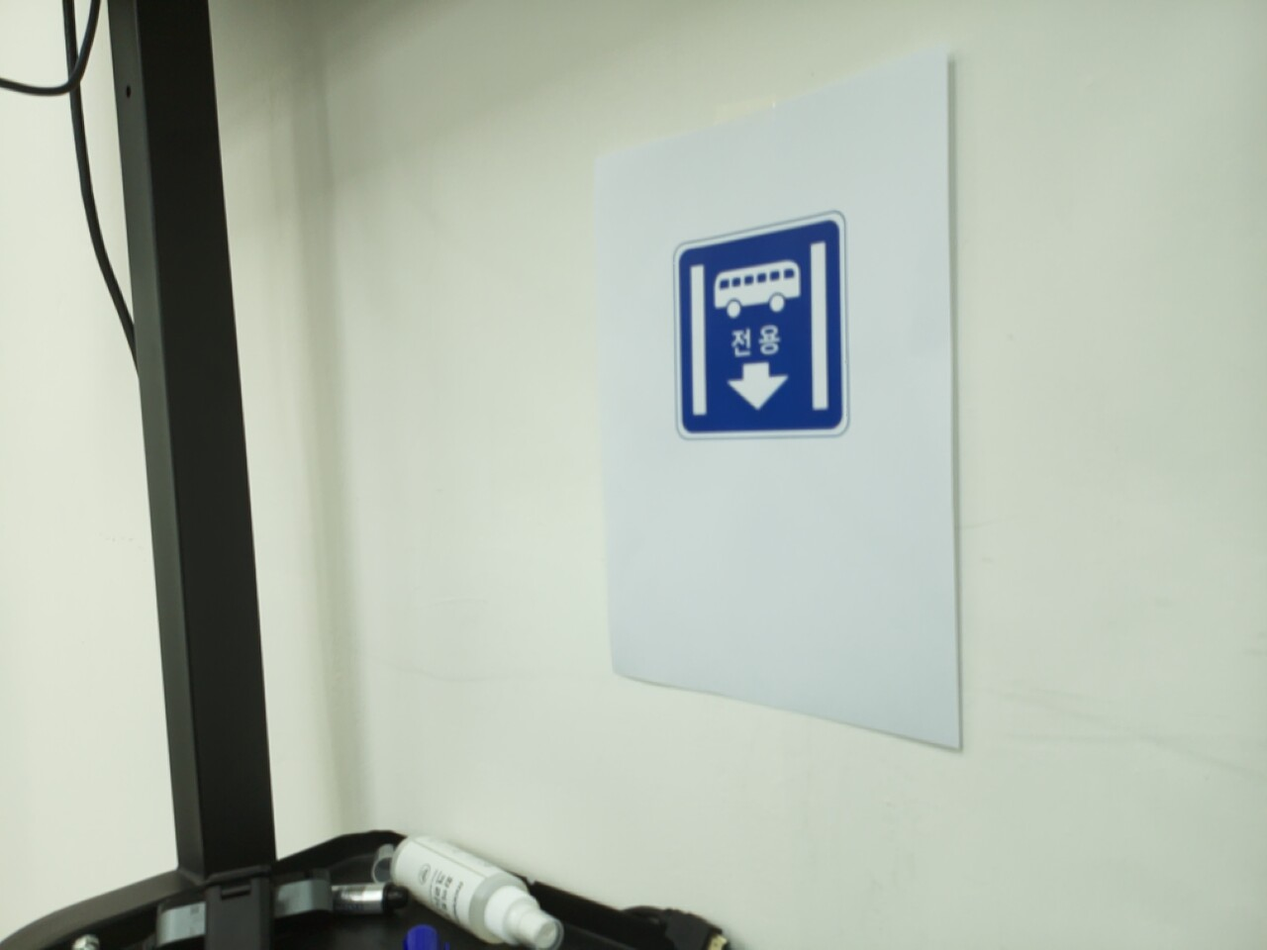bus_only_lane: (672, 212, 850, 441)
